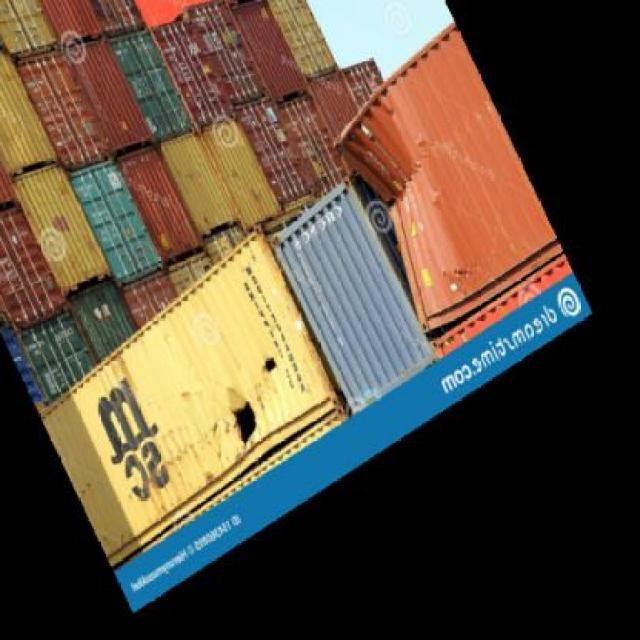hole: (217, 378, 268, 455), (260, 340, 303, 400)
